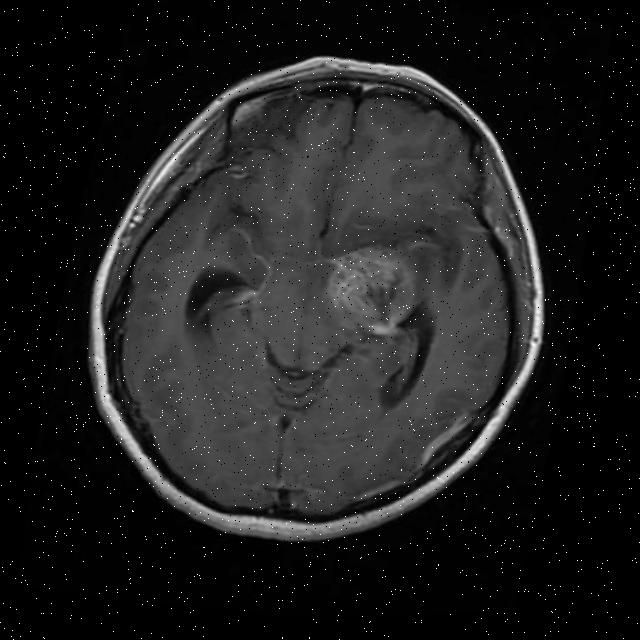Glioma: (319, 235, 426, 340)
